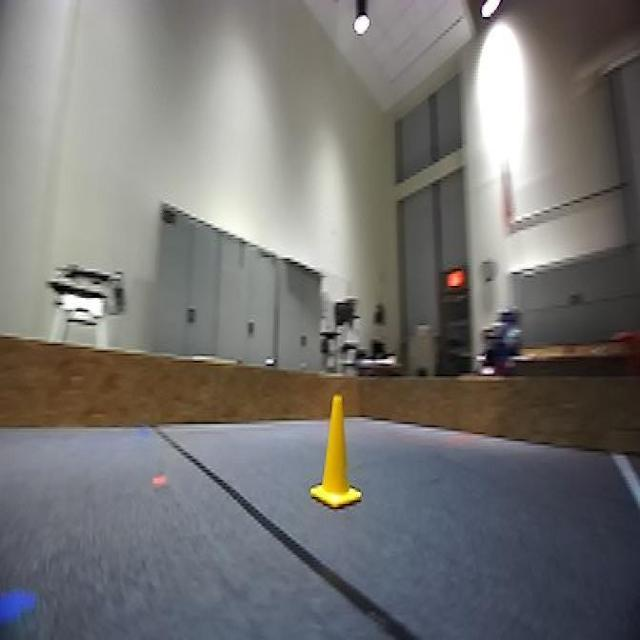frc_cone: (310, 393, 362, 512)
